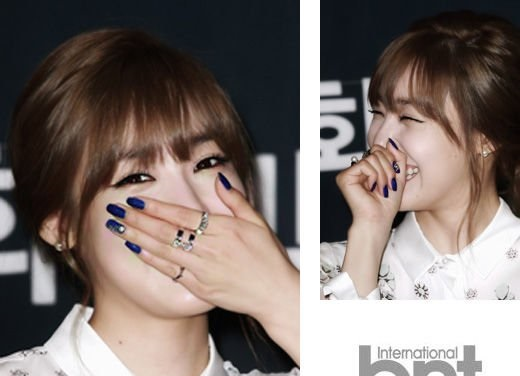face: (71, 105, 251, 314), (367, 64, 480, 206)
